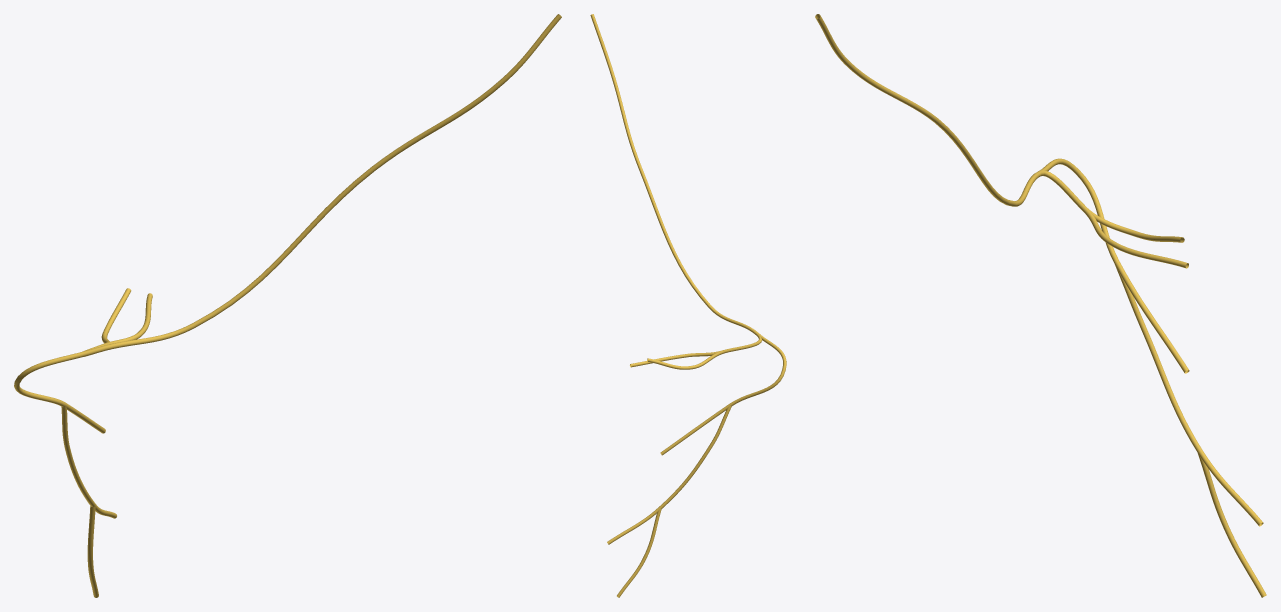
The model's file is Suprascapular_nerve_right.glb.
The picture shows the model from 3 angles, left to right: view 1: azimuth 30°, elevation 25°; view 2: azimuth 150°, elevation 25°; view 3: azimuth 270°, elevation 25°; orthographic projection. The views are drawn at different scales.
Parts seen in each view (by area): view 1: Suprascapular_nerve.r_BezierCurve.400; view 2: Suprascapular_nerve.r_BezierCurve.400; view 3: Suprascapular_nerve.r_BezierCurve.400.
Boxes of the visible parts, <box> form: Suprascapular_nerve.r_BezierCurve.400: <box>14,14,561,597</box>; Suprascapular_nerve.r_BezierCurve.400: <box>590,14,786,597</box>; Suprascapular_nerve.r_BezierCurve.400: <box>815,14,1266,597</box>.
Size of the model in its own units: 0.0895 by 0.1374 by 0.079.
